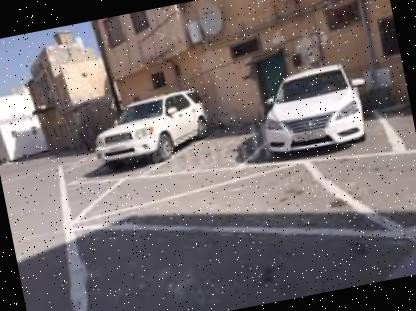car: (246, 54, 380, 166), (81, 78, 222, 178)
